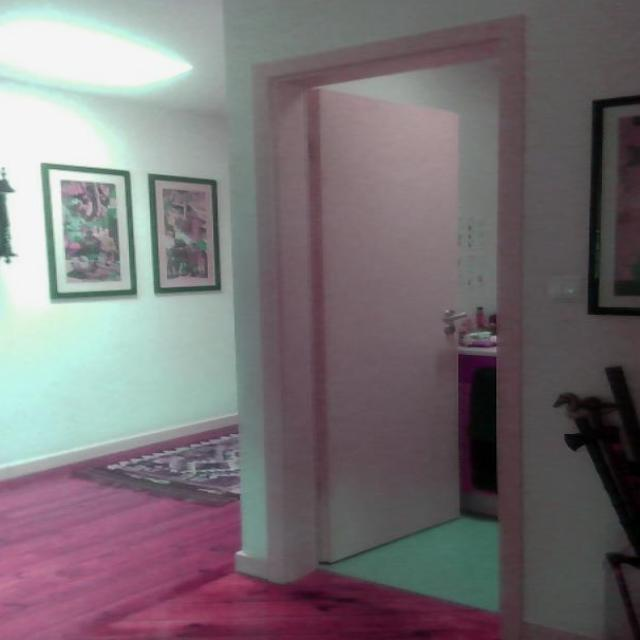door: (310, 86, 461, 564)
